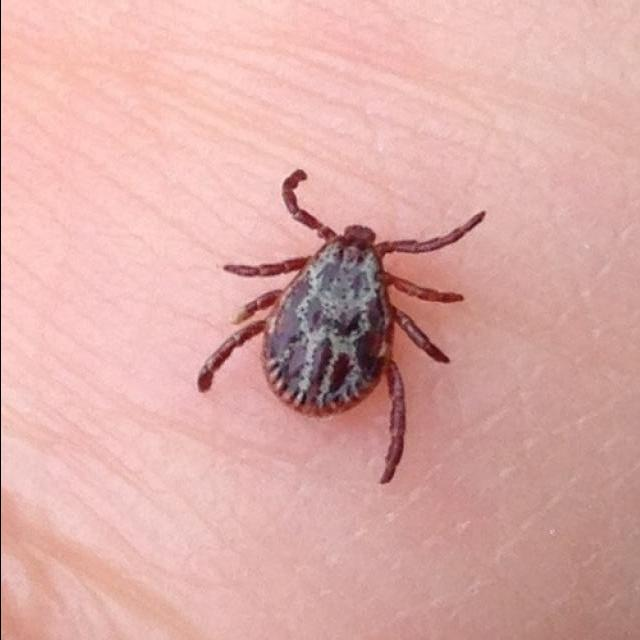Dermacentor Reticulatus-M: (197, 169, 486, 485)
